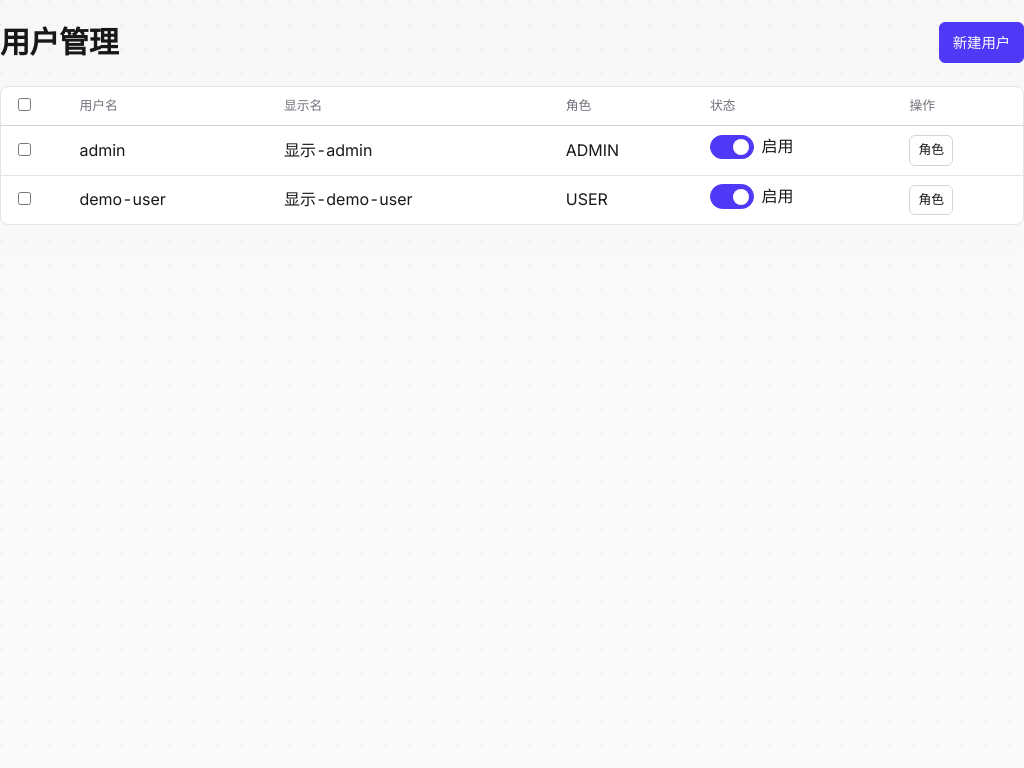
Scenario: UsersView 创建与角色调整（P12.5 缺陷③） › 角色调整：抽屉打开后展示目标用户
Click the button with class "ff-btn--sm" in the row of "显示-demo-user" at (931, 200), box 909,185 -> 953,215
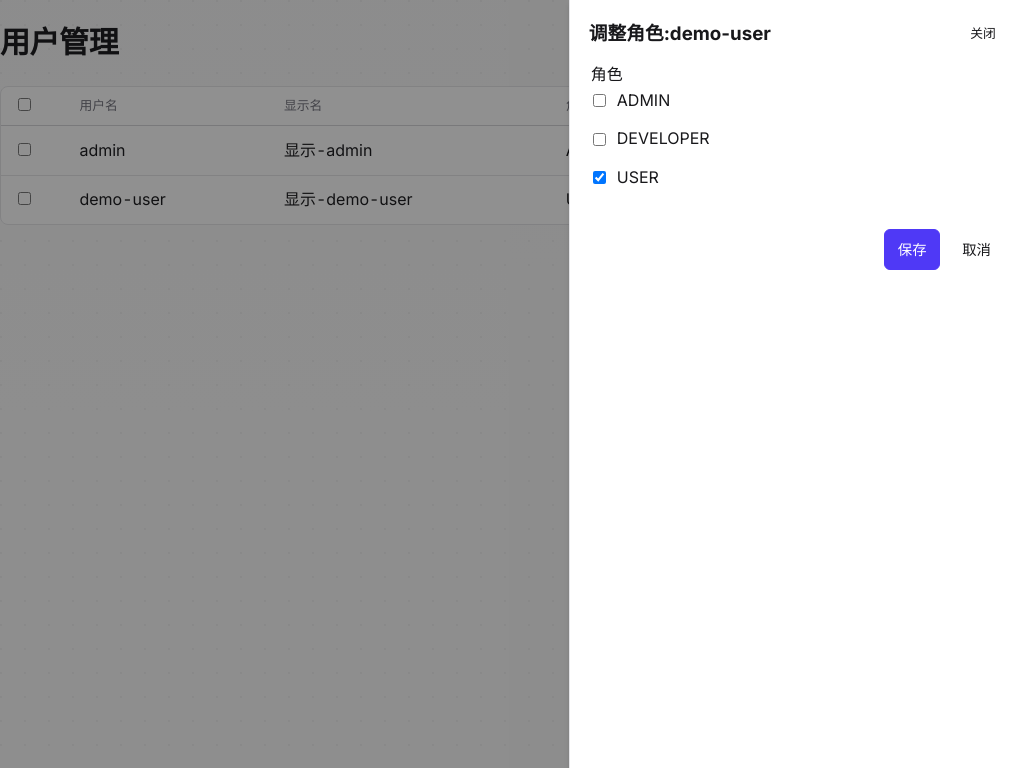
Expected: the dialog shows "demo-user", 589,22 -> 771,46
